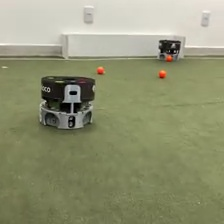ball: (96, 64, 105, 74), (165, 52, 173, 61), (158, 68, 166, 77)
goal: (60, 31, 186, 60)
robot: (38, 74, 98, 132), (157, 37, 182, 63)
